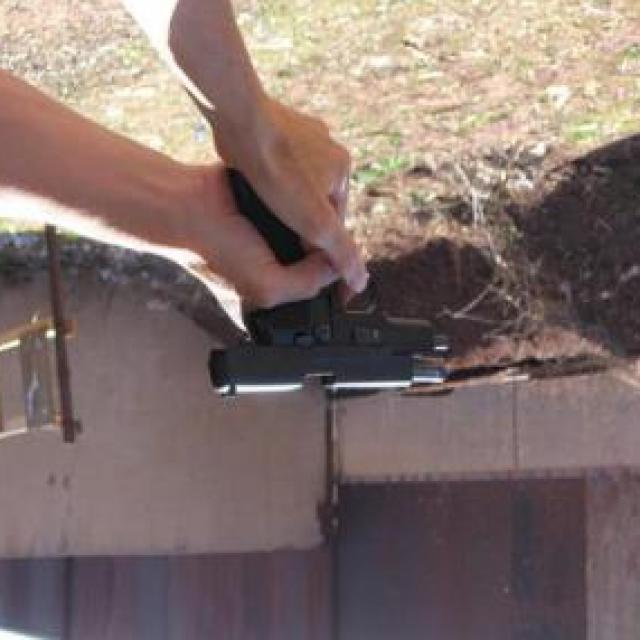pistol: (208, 164, 452, 398)
